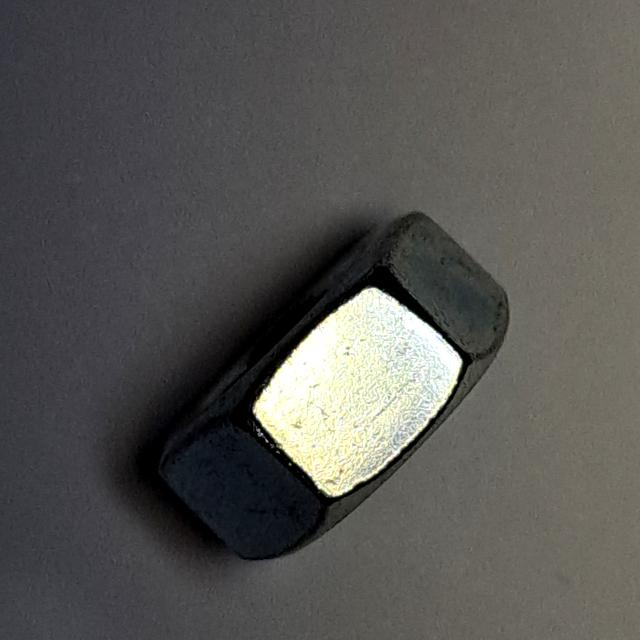Side_Excellent: (139, 201, 525, 573)
